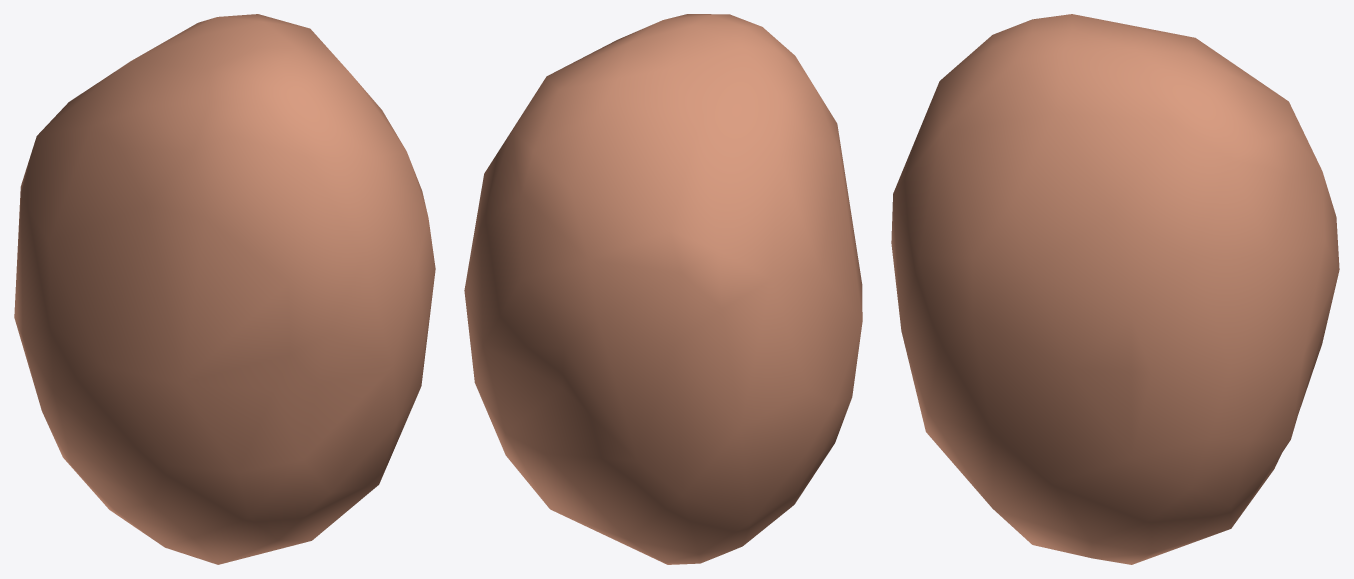
The model's file is testis-l.glb.
3 renders of one model, left to right at view 1: azimuth 30°, elevation 25°; view 2: azimuth 150°, elevation 25°; view 3: azimuth 270°, elevation 25°, orthographic. The views are drawn at different scales.
Parts seen in each view (by area): view 1: Testis.l; view 2: Testis.l; view 3: Testis.l.
Part boxes in pixels (<box>): Testis.l: <box>14,14,435,564</box>; Testis.l: <box>464,14,862,564</box>; Testis.l: <box>891,14,1339,564</box>.
Size of the model in its own units: 0.0214 by 0.0298 by 0.0233.
